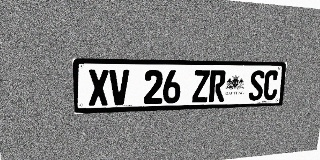2: (144, 70, 163, 104)
6: (163, 70, 181, 103)
C: (263, 70, 279, 100)
R: (209, 70, 226, 102)
S: (248, 70, 265, 101)
V: (109, 69, 129, 105)
X: (88, 69, 109, 106)
Z: (192, 70, 210, 102)
